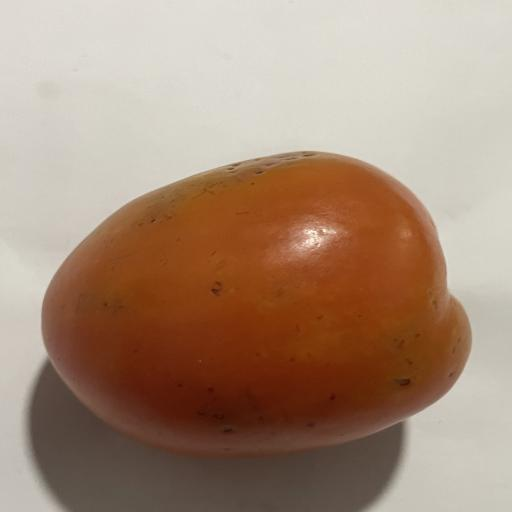ripe: (42, 151, 471, 457)
